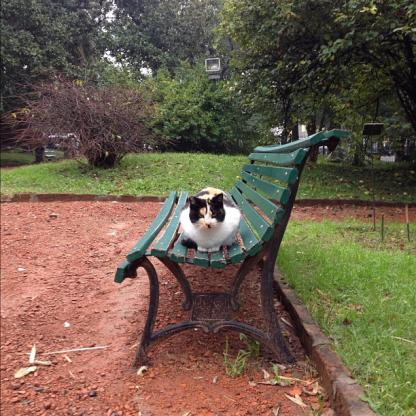Target: (174, 184, 244, 257)
